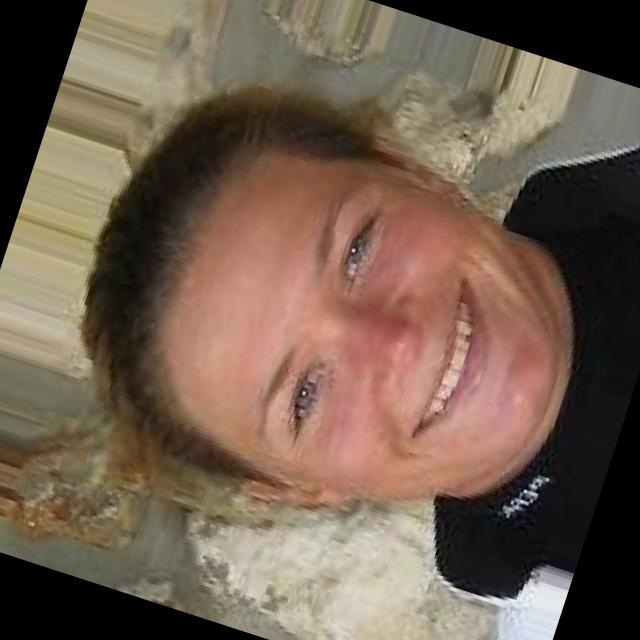bareface: (34, 76, 588, 526)
